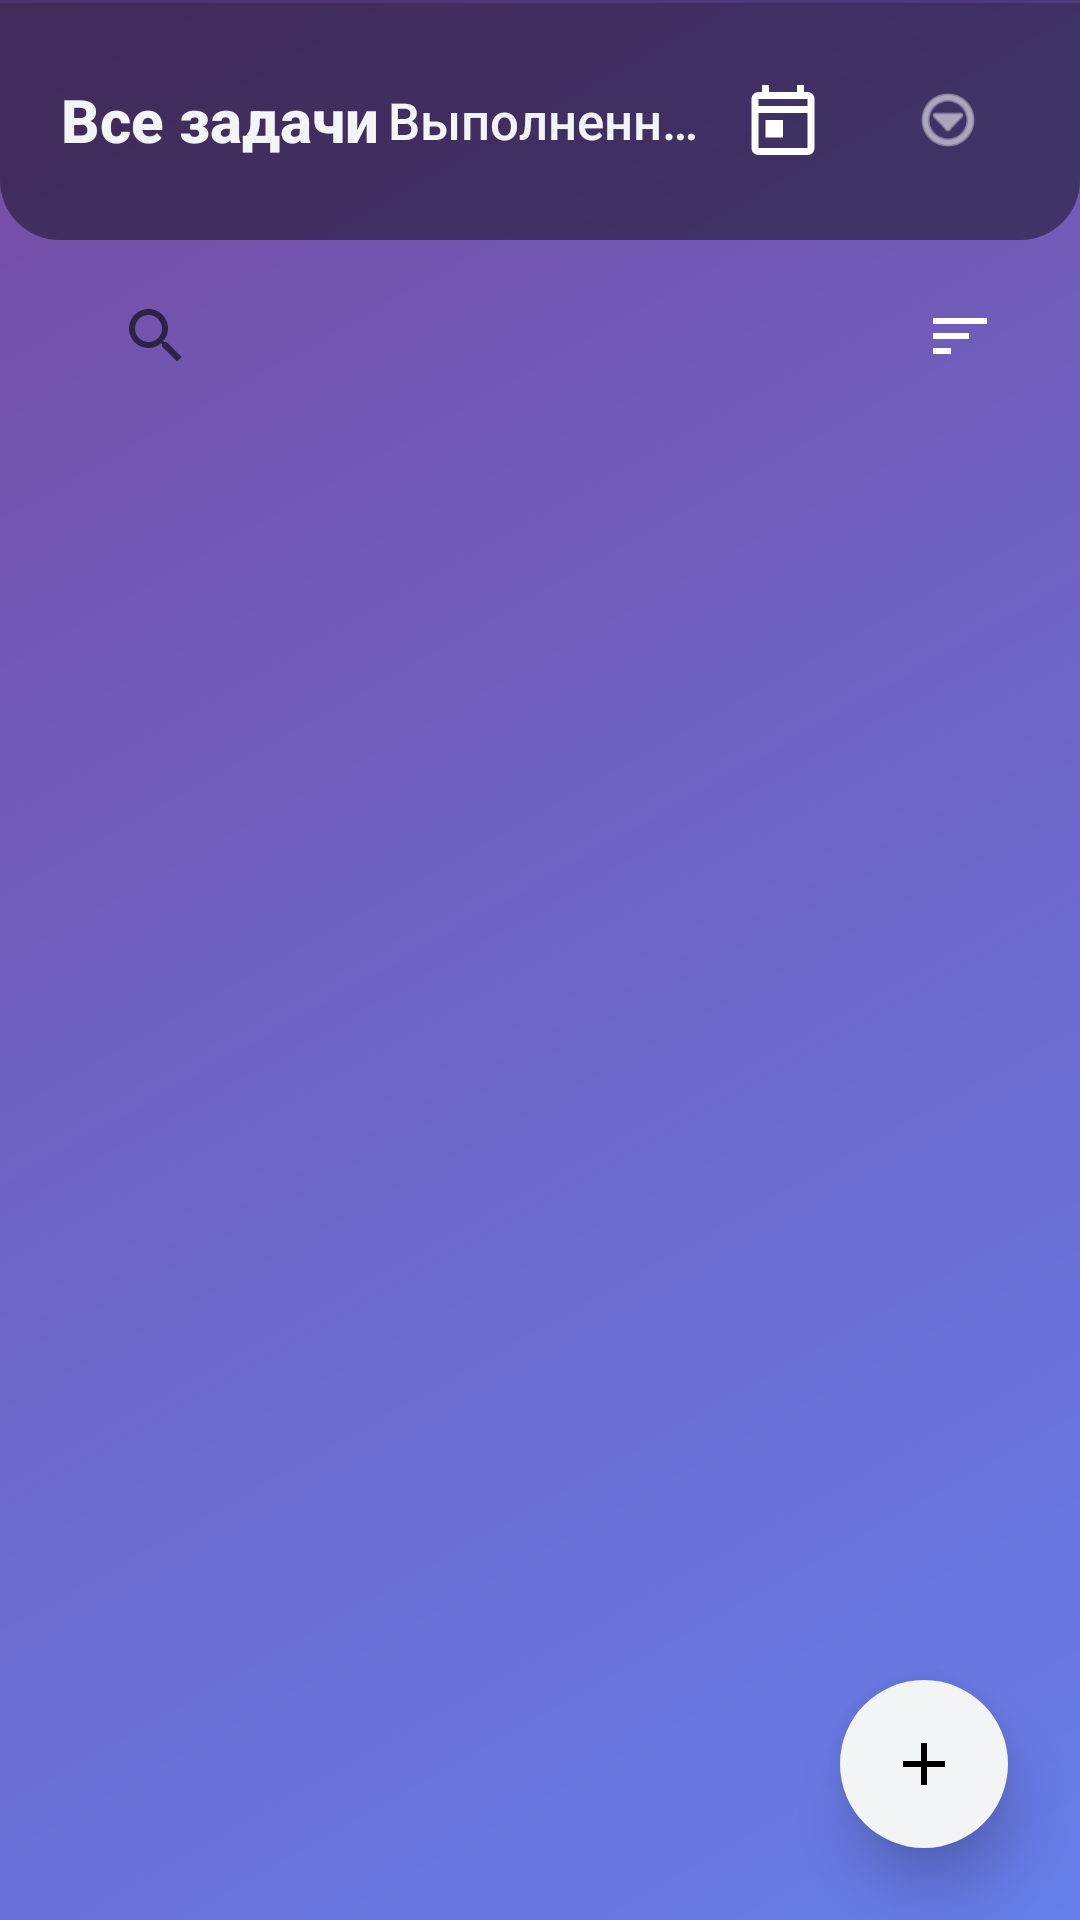

Locate icon controls on the screen. Image size 1080px×1920px, boxes as [x1,y1,x2,y2].
Calendar: [751,85,815,155]
more: [921,93,975,147]
Добавить задачу: [840,1680,1008,1848]
Сортировка: [933,318,987,354]
